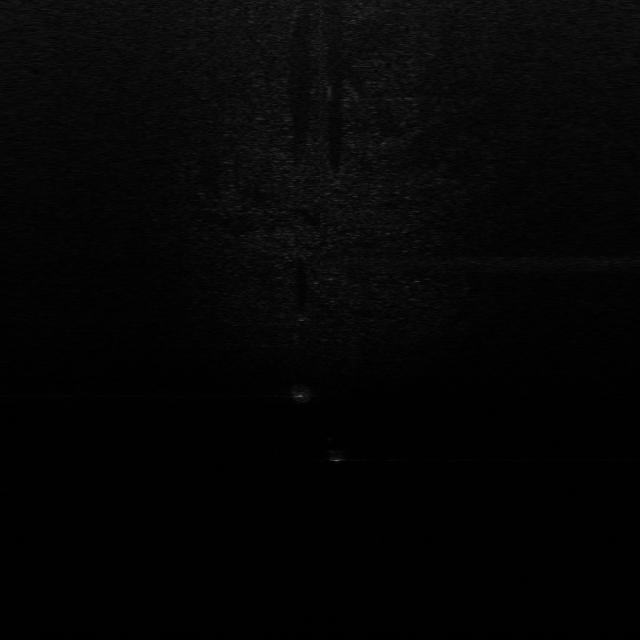ball: (290, 309, 316, 329)
circle cage: (283, 379, 319, 407)
tyre: (314, 426, 358, 464)
